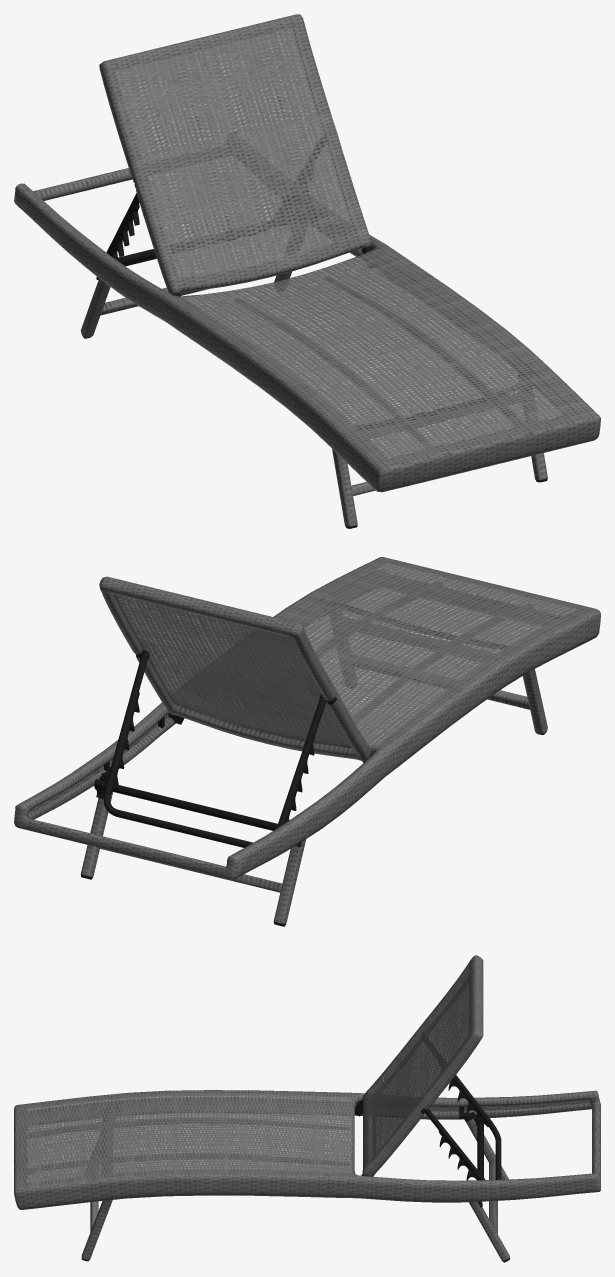
The model's file is B07YNFQCWM.glb.
The picture shows the model from 3 angles, top to bottom: view 1: azimuth 30°, elevation 25°; view 2: azimuth 150°, elevation 25°; view 3: azimuth 270°, elevation 25°; orthographic projection. The views are drawn at different scales.
Parts seen in each view (by area): view 1: RootNode; view 2: RootNode; view 3: RootNode.
Part boxes in pixels (x1=…): RootNode: x1=14, y1=14, x2=600, y2=528; RootNode: x1=14, y1=557, x2=600, y2=926; RootNode: x1=14, y1=955, x2=600, y2=1262.
Bounding box in the file's own units: 0.7026 × 0.8683 × 2.
Materials: 1 (1 with a texture image).
